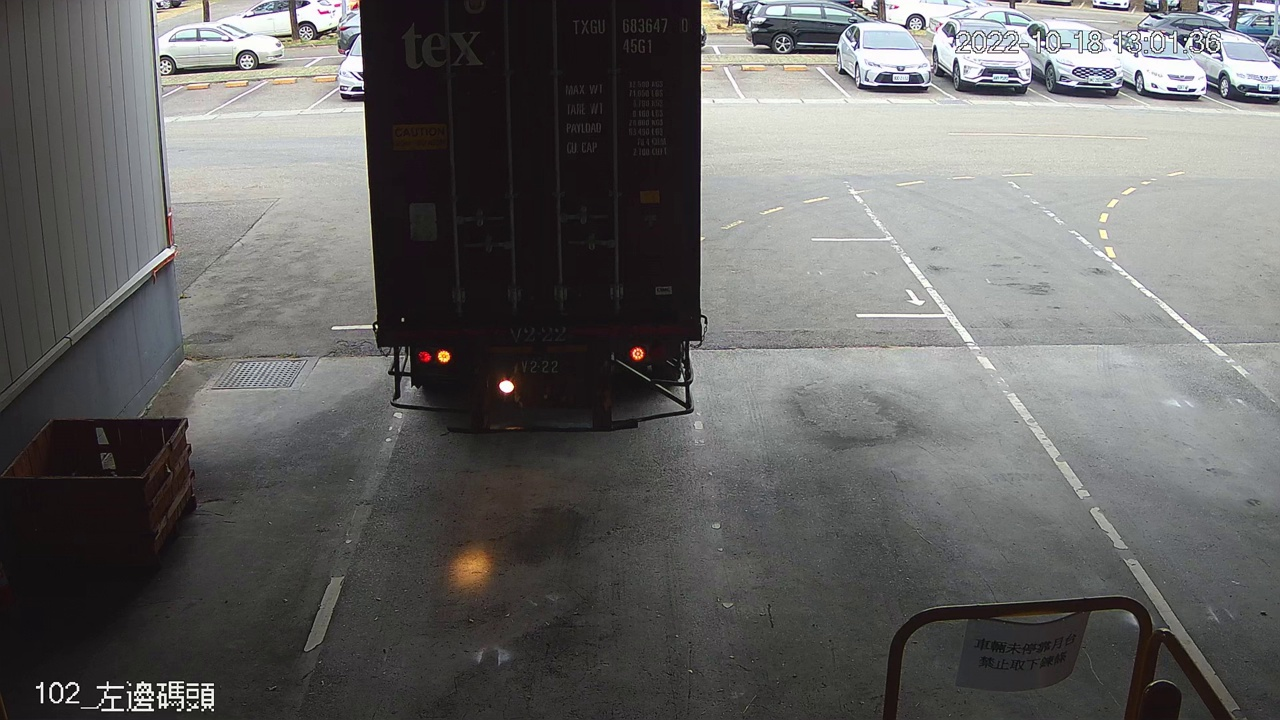container: (567, 12, 694, 58)
